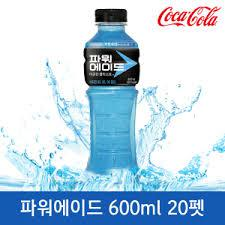powerade_mountainblast: (78, 6, 143, 184)
